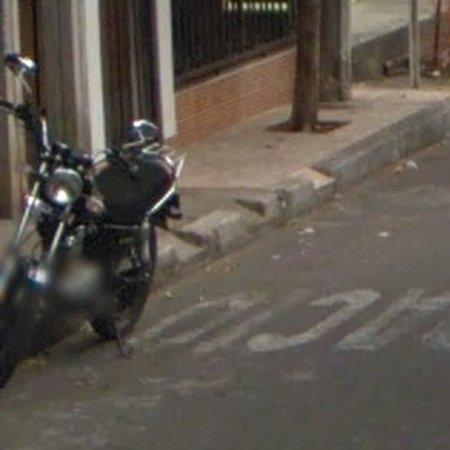motorcycles: (0, 106, 184, 387)
